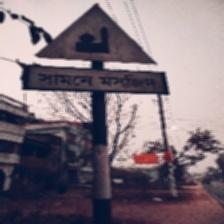Mosque in front: (21, 2, 167, 97)
